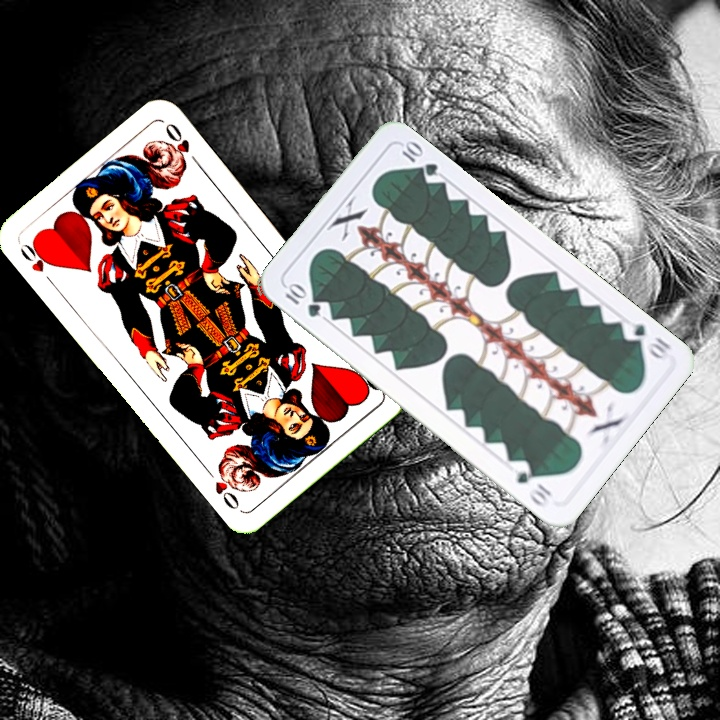G10: (617, 316, 674, 364), (281, 279, 324, 320)
HO: (16, 236, 58, 289)
